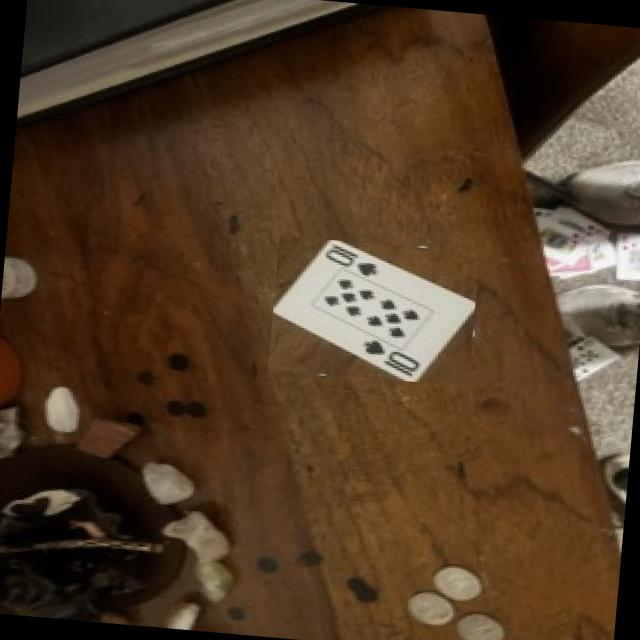10 of spades: (273, 238, 475, 380)
